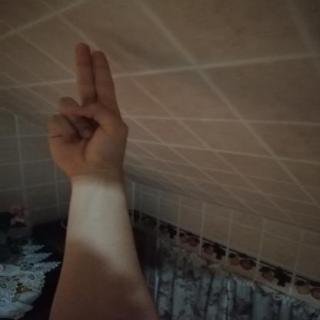TA: (27, 33, 156, 185)
